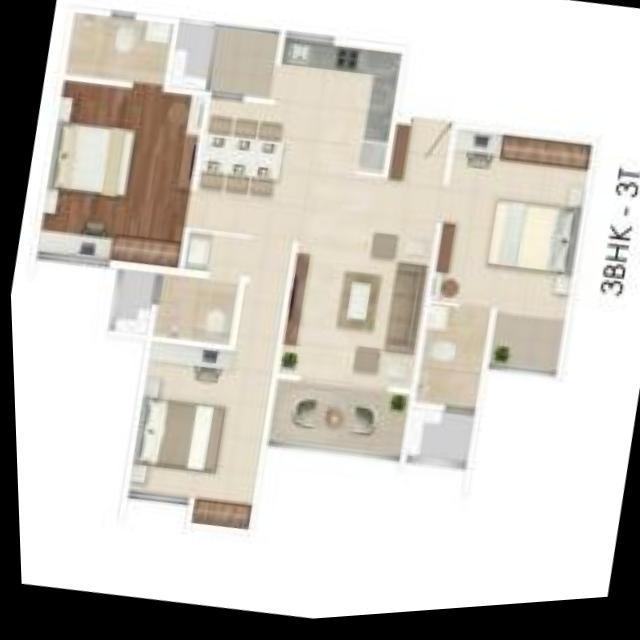Balcony-Sitout: (262, 384, 406, 466)
Bedroom: (118, 284, 284, 512)
Bedroom with Toilet: (405, 135, 590, 423), (27, 8, 207, 274)
Dining: (187, 113, 292, 209)
Enterance-Foyer: (387, 123, 453, 192)
Kitchen: (270, 38, 404, 181)
Living: (271, 173, 440, 399)
Toilet: (409, 308, 486, 417), (65, 13, 171, 89), (152, 274, 237, 347)
